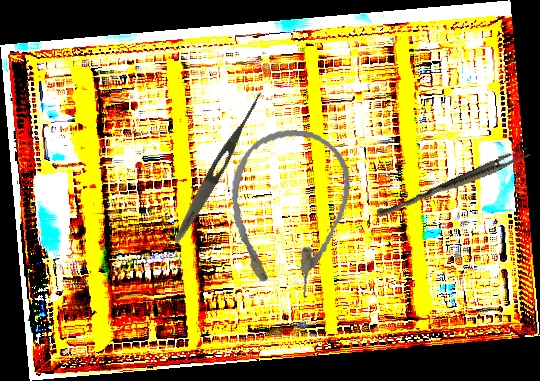Cannula: (219, 123, 357, 303)
Dressing Forceps: (170, 87, 267, 246)
Tissue Forceps: (375, 143, 532, 224)
